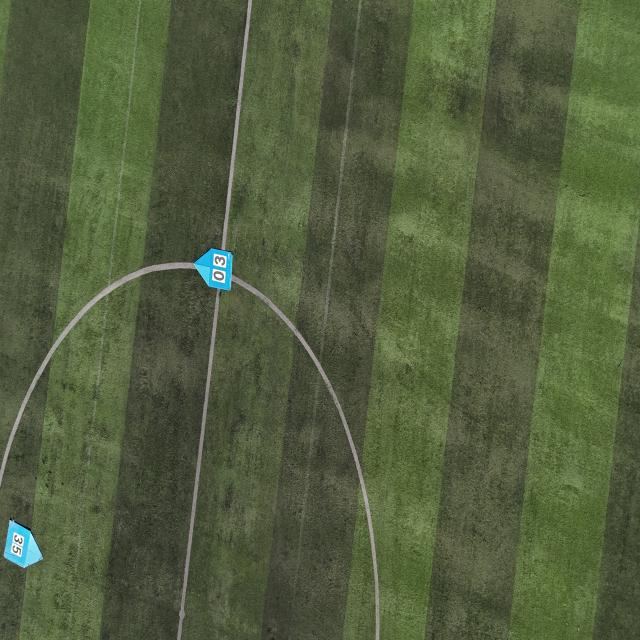board: (3, 519, 44, 569), (193, 247, 233, 292)
